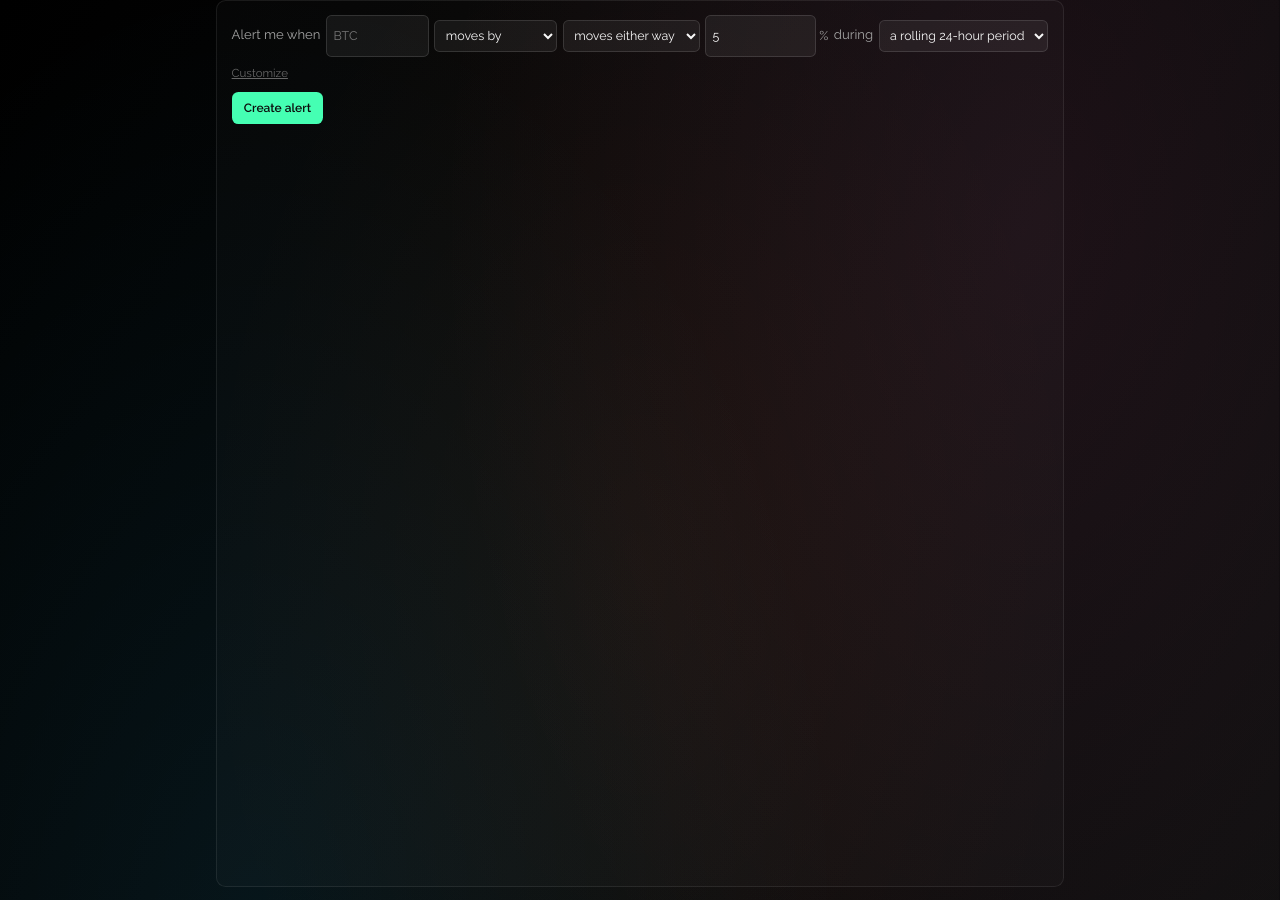
Test: QuickAlertBuilder › blocks submission without a coin
This screenshot has width=1280, height=900.
What coordinates should you click on to do the following:
click the button "Create alert"
I would click on:
 (277, 108)
Its box is [232, 92, 323, 124].
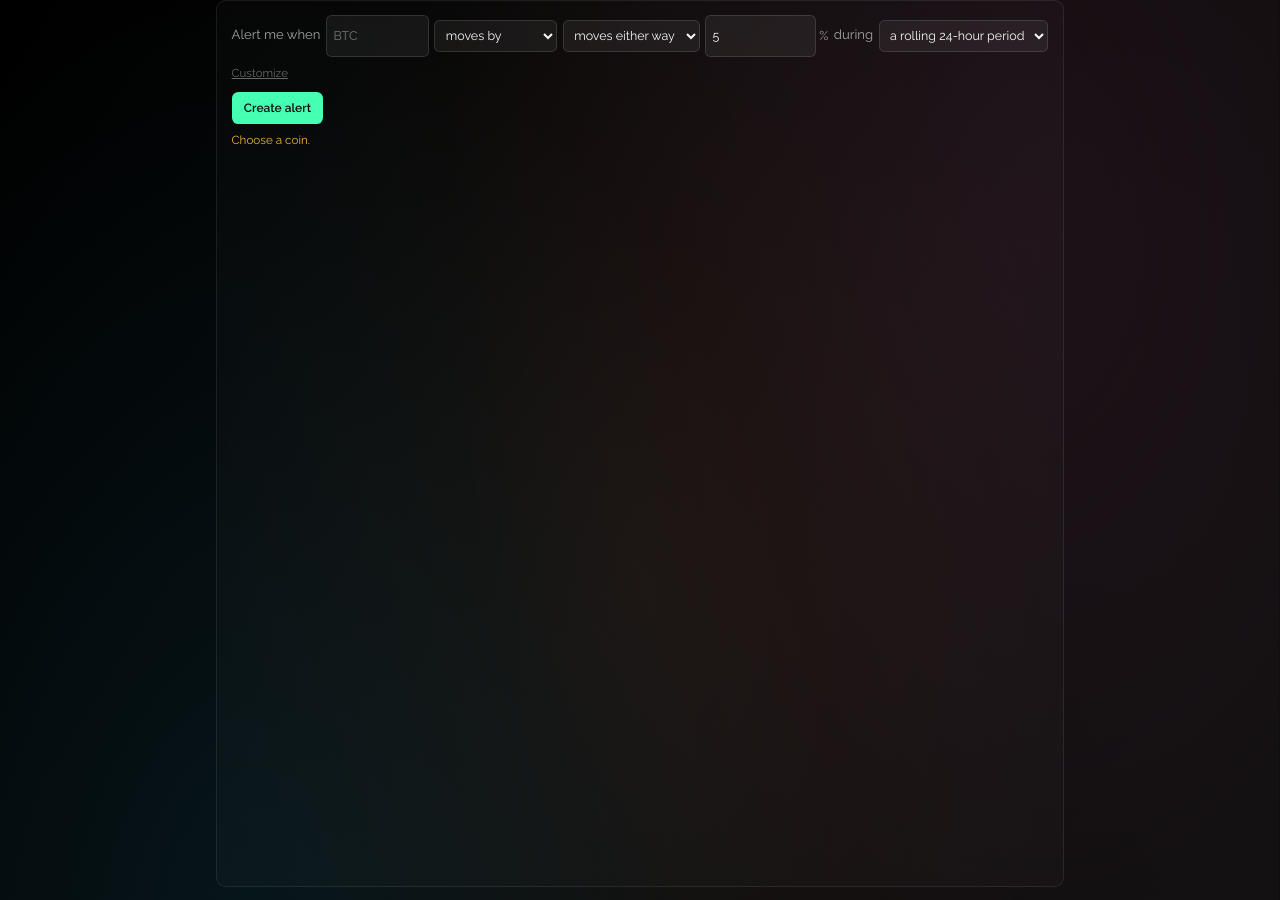
Check: the text "Choose a coin." is shown, box [232, 133, 310, 147]
